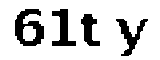1: (49, 6, 77, 49)
6: (13, 4, 46, 50)
t: (77, 12, 104, 51)
y: (113, 14, 153, 60)
